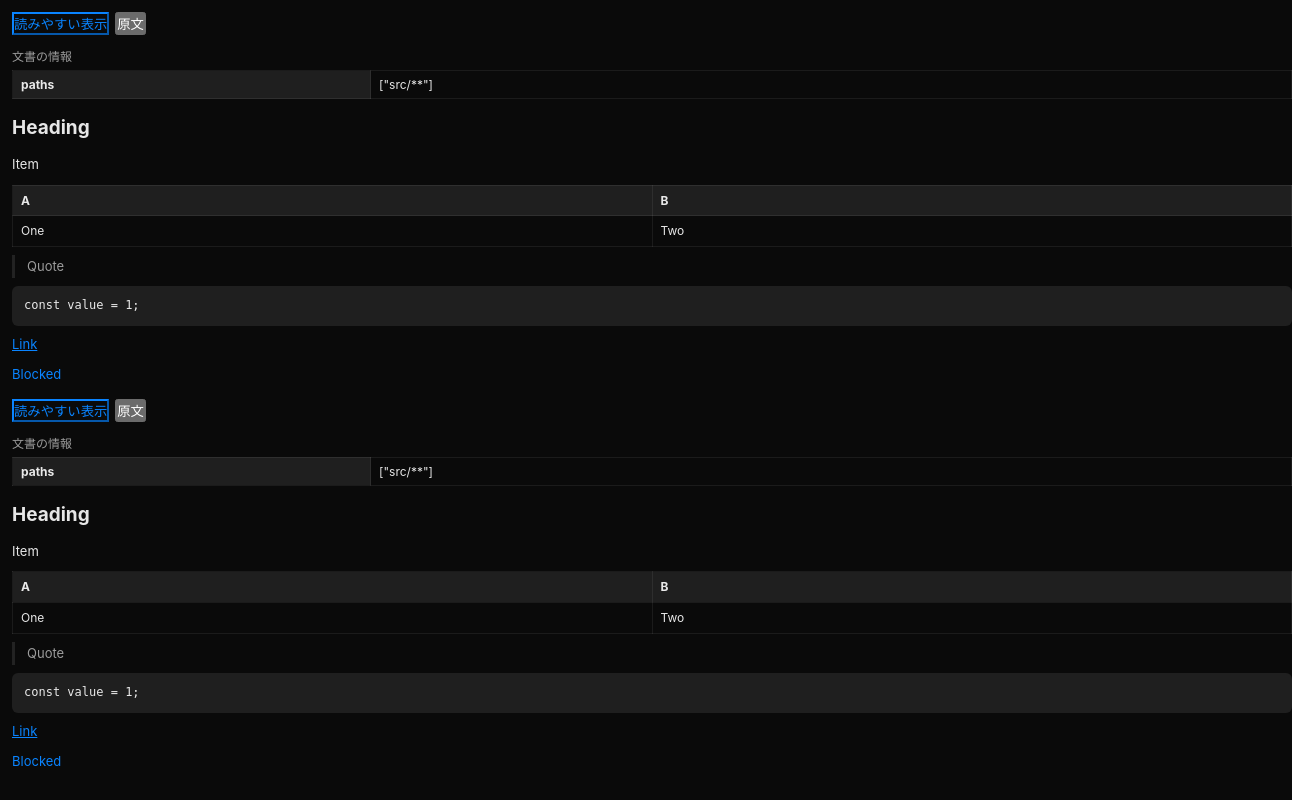
Test: agent design Markdown and direct skills entry › gives comparison documents independent source switches and distinct heading IDs
Step 1. Click the 1st button "原文" → (131, 24), box left=115, top=12, right=146, bottom=35
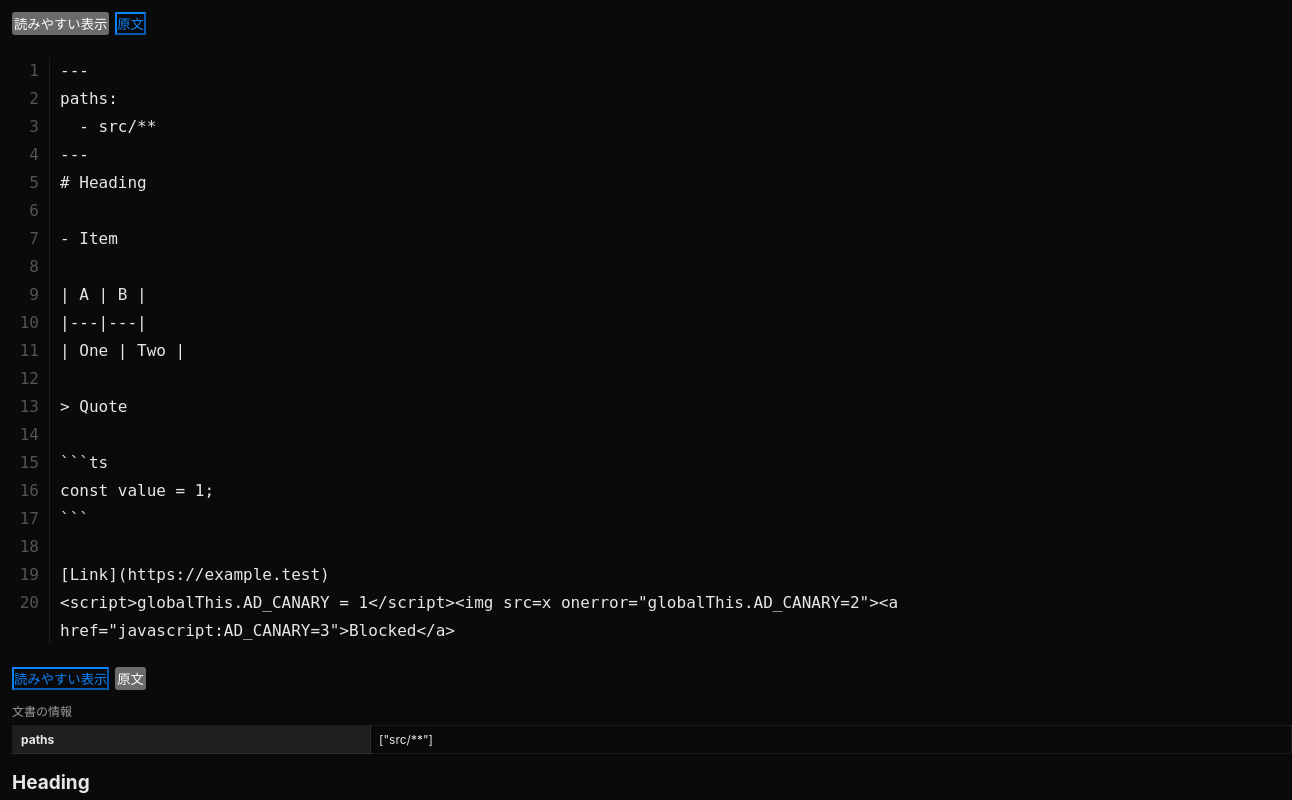
expect the number of elements with class "ad-document-source" is 1: met, box left=12, top=57, right=908, bottom=645
